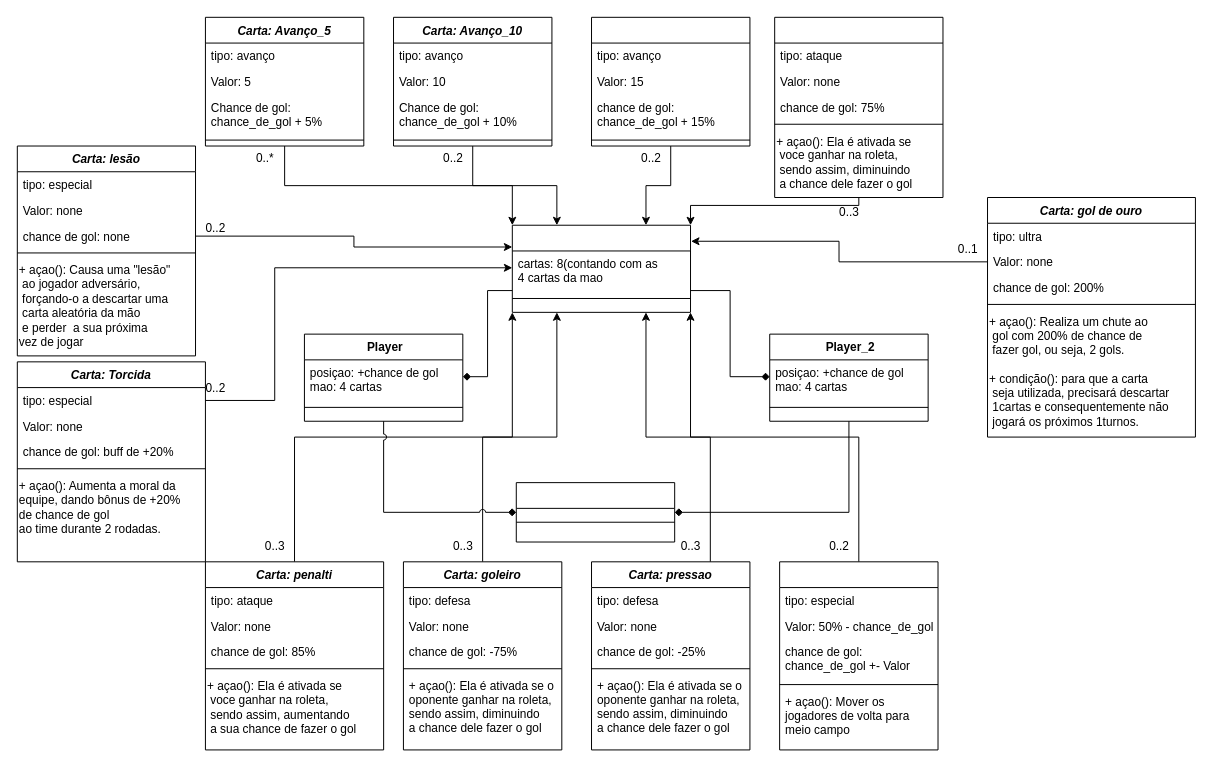
Image size: 1213x770. Some labels were removed from this diagram. Here are the shapes that lost their labels. From the top down, the box of each, then its label:
(591, 16, 750, 146): Carta: Avanço_15
(774, 16, 943, 198): Carta: Chute livre
(511, 224, 691, 312): Deck: Player e Player_2
(515, 482, 675, 542): Campo de futebol
(779, 561, 938, 750): Carta: Meio-Campo
